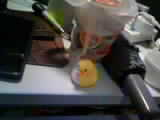duck: (68, 58, 99, 86)
